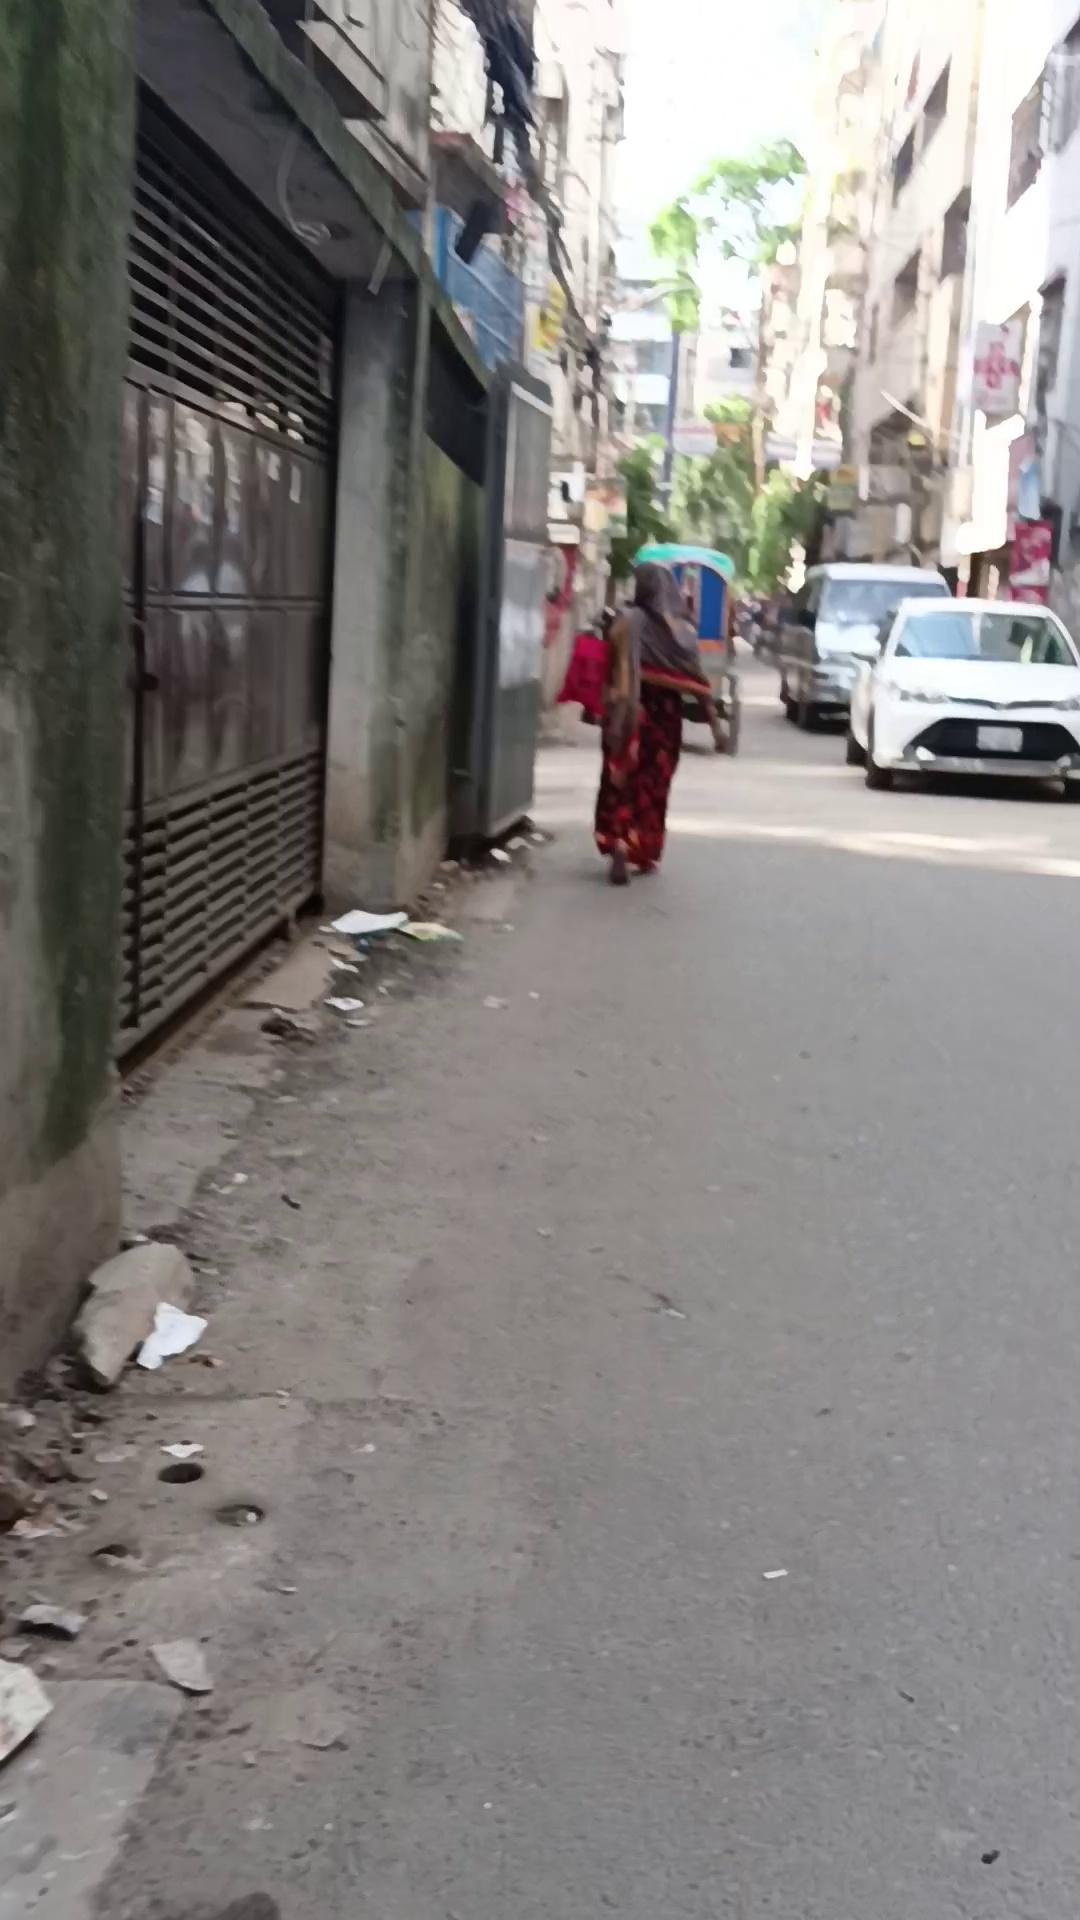Car: (843, 595, 1079, 796)
Crosswalk: (114, 814, 542, 1110), (115, 905, 313, 1101)
Garbage: (629, 540, 740, 755)
Muddy road: (593, 559, 725, 885)
